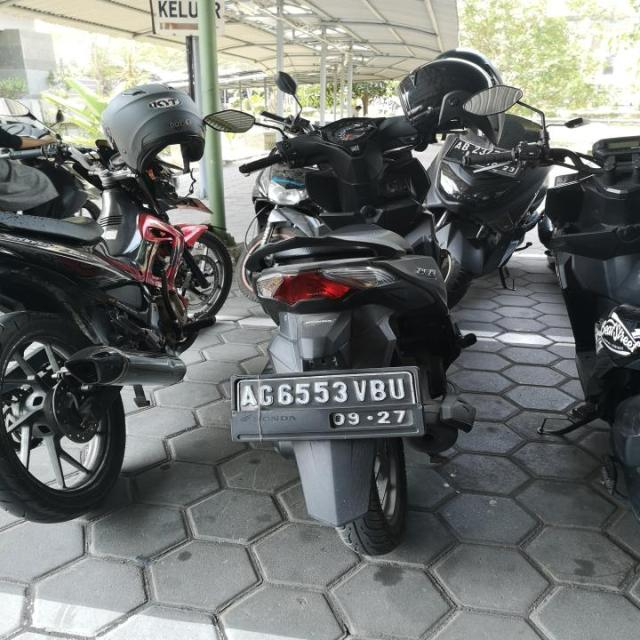License Plate: (226, 362, 425, 446), (445, 138, 523, 176)
